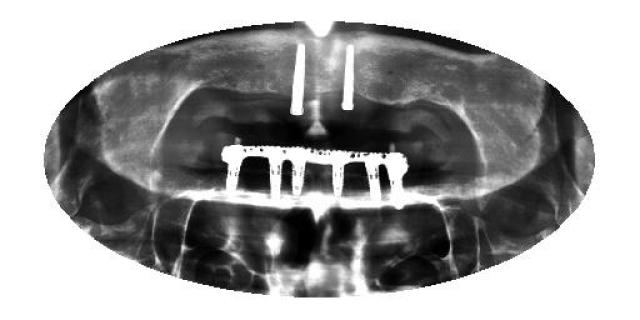Implant: (282, 145, 318, 200), (219, 142, 251, 196), (253, 148, 285, 200), (357, 151, 385, 209), (319, 150, 355, 195), (288, 41, 308, 119), (384, 150, 408, 212), (340, 42, 356, 112)
